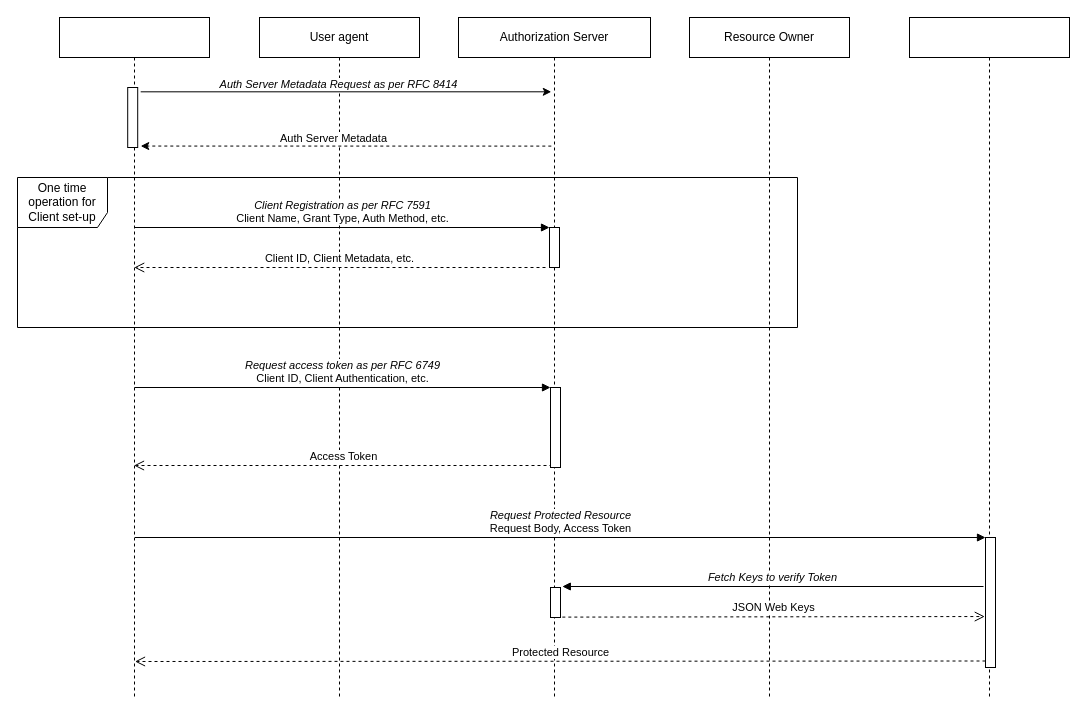
This 1087x715 diagram has some shape labels left out. Here are the shapes that lost their labels. From the top down, the box of each, then its label:
(58, 16, 210, 698): Client (e.g. NMOS Node)
(908, 16, 1070, 698): Resource Server (e.g. Registry)
